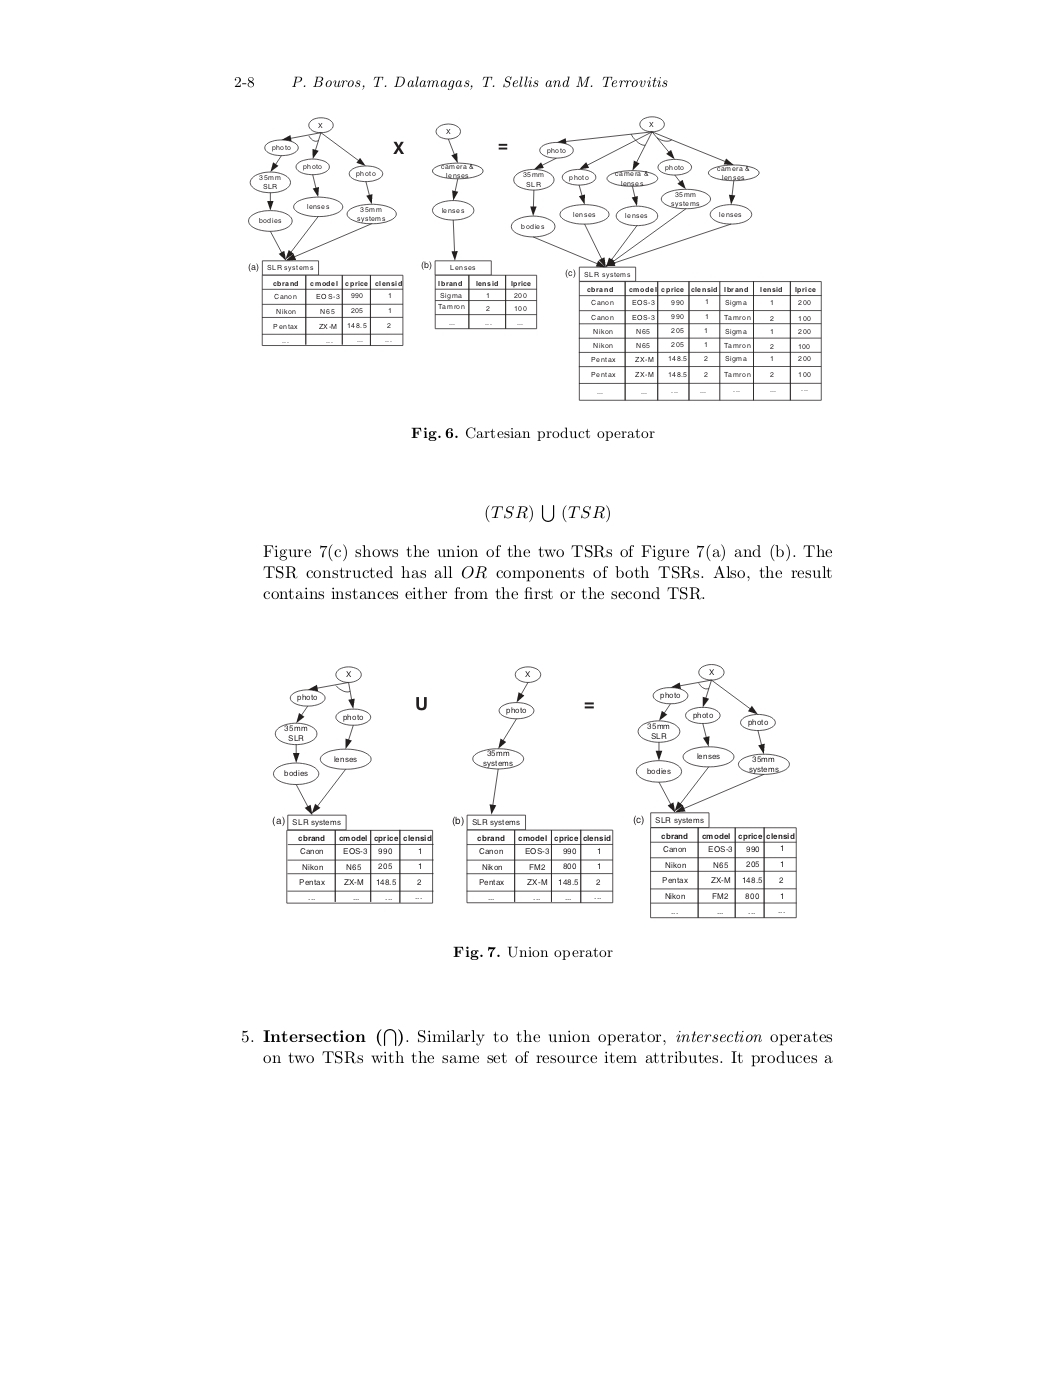figure: (249, 115, 821, 401), (633, 662, 796, 919), (272, 665, 434, 904), (452, 665, 613, 904)
